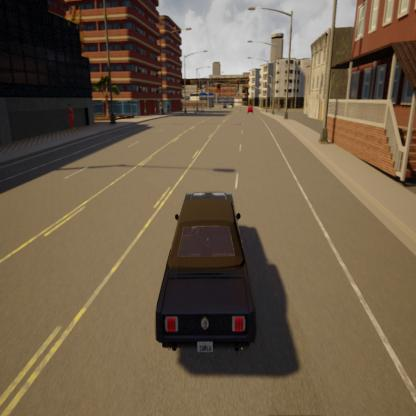Cars: (142, 185, 264, 357)
Pedestrian: (67, 106, 79, 137)
